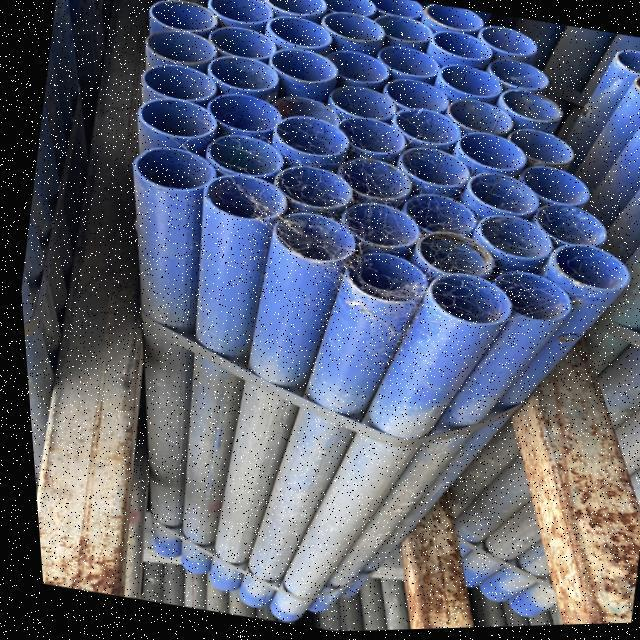pipe: (345, 249, 431, 306), (341, 154, 421, 208), (427, 275, 510, 327), (277, 212, 359, 264), (488, 274, 569, 326), (507, 163, 594, 210), (402, 144, 473, 200), (208, 174, 288, 223), (391, 196, 479, 240), (417, 230, 496, 279), (345, 204, 425, 252), (528, 201, 607, 249), (479, 216, 554, 266), (131, 147, 216, 191), (211, 133, 288, 181), (209, 96, 287, 143), (280, 167, 356, 215), (553, 248, 629, 296), (139, 98, 223, 141), (140, 61, 223, 104), (497, 126, 577, 170), (469, 176, 545, 221), (276, 117, 350, 162), (341, 119, 413, 165), (459, 134, 532, 179), (317, 52, 397, 91), (482, 53, 550, 97), (396, 111, 467, 153), (204, 27, 289, 62), (332, 86, 405, 126), (448, 101, 519, 142), (203, 56, 281, 93), (500, 89, 566, 131), (385, 82, 463, 117), (377, 44, 441, 85), (149, 23, 214, 62), (149, 0, 219, 36), (321, 14, 393, 49), (273, 50, 340, 87), (440, 67, 505, 105), (377, 11, 437, 48), (434, 33, 497, 68), (274, 15, 335, 50), (478, 27, 539, 62), (276, 98, 350, 126), (422, 5, 487, 36), (213, 0, 278, 27), (266, 0, 329, 19), (325, 0, 382, 21), (372, 0, 425, 20), (620, 54, 640, 79)
